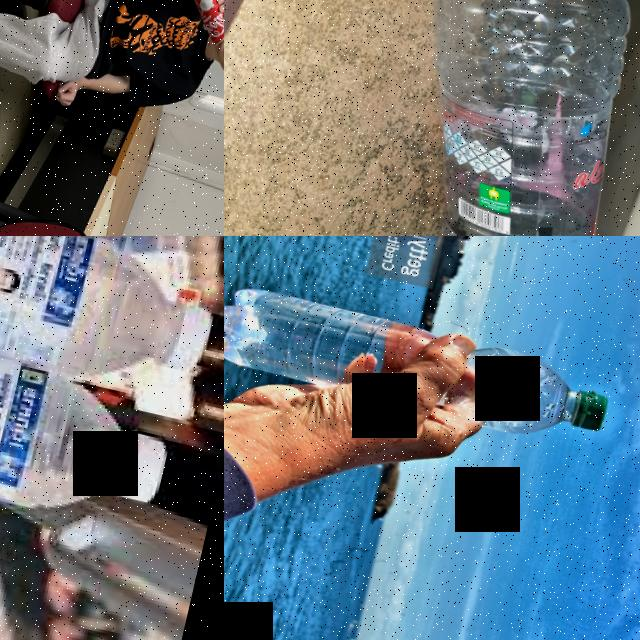bottle: (224, 276, 614, 455), (364, 0, 640, 236), (0, 260, 186, 535), (0, 236, 224, 402)
can: (177, 0, 224, 47)
